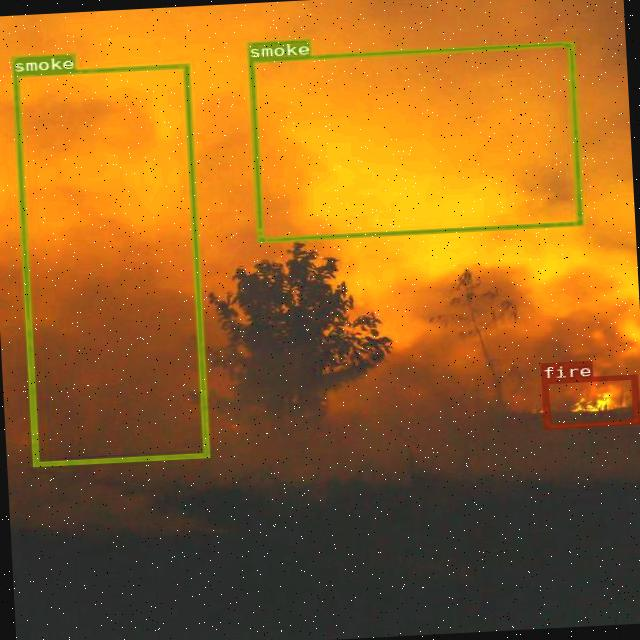fire: (541, 374, 638, 428)
smoke: (12, 62, 208, 466), (248, 41, 582, 242)
